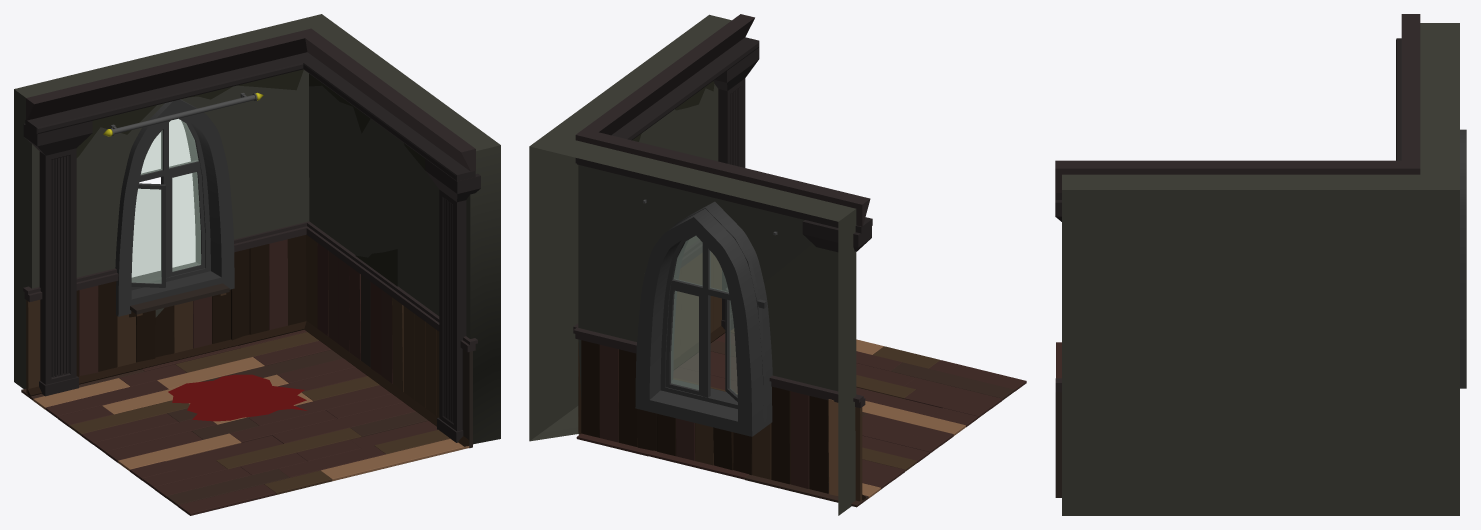
File: HabitaionVentana.fbx
The picture shows the model from 3 angles, left to right: view 1: azimuth 30°, elevation 25°; view 2: azimuth 150°, elevation 25°; view 3: azimuth 270°, elevation 25°; orthographic projection. The views are drawn at different scales.
Visible parts, largest first — view 1: ParedVentana, Suelo.001, ParedVentana.001, Ventanal, BasePared, Columna2, VigaSup, Columna1, Alfombra, Humedad2, Humedad1, BarraCornitas; view 2: ParedVentana, Ventanal, ParedVentana.001, Suelo.001, VigaSup, Columna1, BasePared, Columna2; view 3: ParedVentana, VigaSup, Ventanal, BasePared, Columna2.
Part boxes in pixels (bbox=[...]): ParedVentana: bbox=[14, 14, 500, 444]; Suelo.001: bbox=[21, 329, 469, 515]; ParedVentana.001: bbox=[23, 221, 309, 396]; Ventanal: bbox=[115, 99, 234, 316]; BasePared: bbox=[304, 222, 477, 448]; Columna2: bbox=[23, 55, 303, 396]; VigaSup: bbox=[26, 28, 475, 171]; Columna1: bbox=[294, 52, 480, 442]; Alfombra: bbox=[168, 374, 307, 421]; Humedad2: bbox=[76, 69, 303, 157]; Humedad1: bbox=[309, 74, 425, 286]; BarraCornitas: bbox=[103, 92, 263, 136]; ParedVentana: bbox=[529, 14, 856, 515]; Ventanal: bbox=[635, 201, 772, 436]; ParedVentana.001: bbox=[573, 327, 866, 501]; Suelo.001: bbox=[576, 329, 1026, 507]; VigaSup: bbox=[575, 14, 870, 226]; Columna1: bbox=[575, 37, 759, 329]; BasePared: bbox=[573, 239, 725, 434]; Columna2: bbox=[577, 158, 872, 493]; ParedVentana: bbox=[1062, 23, 1459, 515]; VigaSup: bbox=[1055, 14, 1420, 192]; Ventanal: bbox=[1460, 129, 1466, 388]; BasePared: bbox=[1055, 378, 1061, 497]; Columna2: bbox=[1396, 38, 1401, 160].
Bounding box in the file's own units: 361 × 353 × 370.
